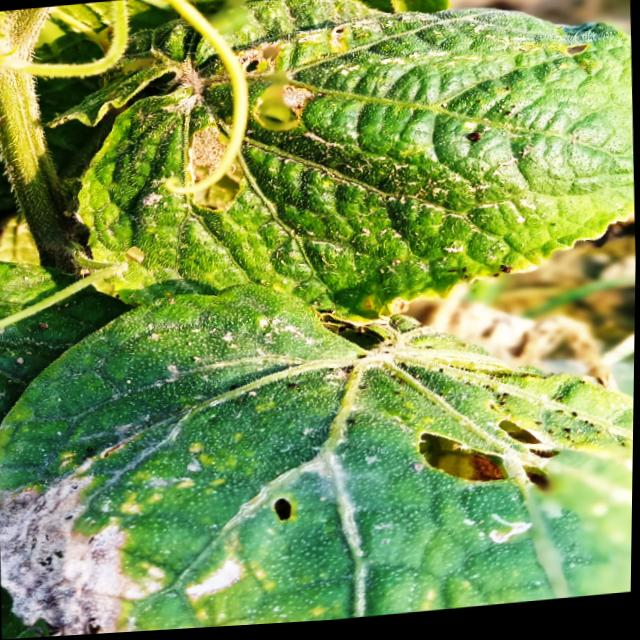Anthracnose: (177, 25, 314, 213), (415, 401, 561, 503), (267, 489, 296, 530)
